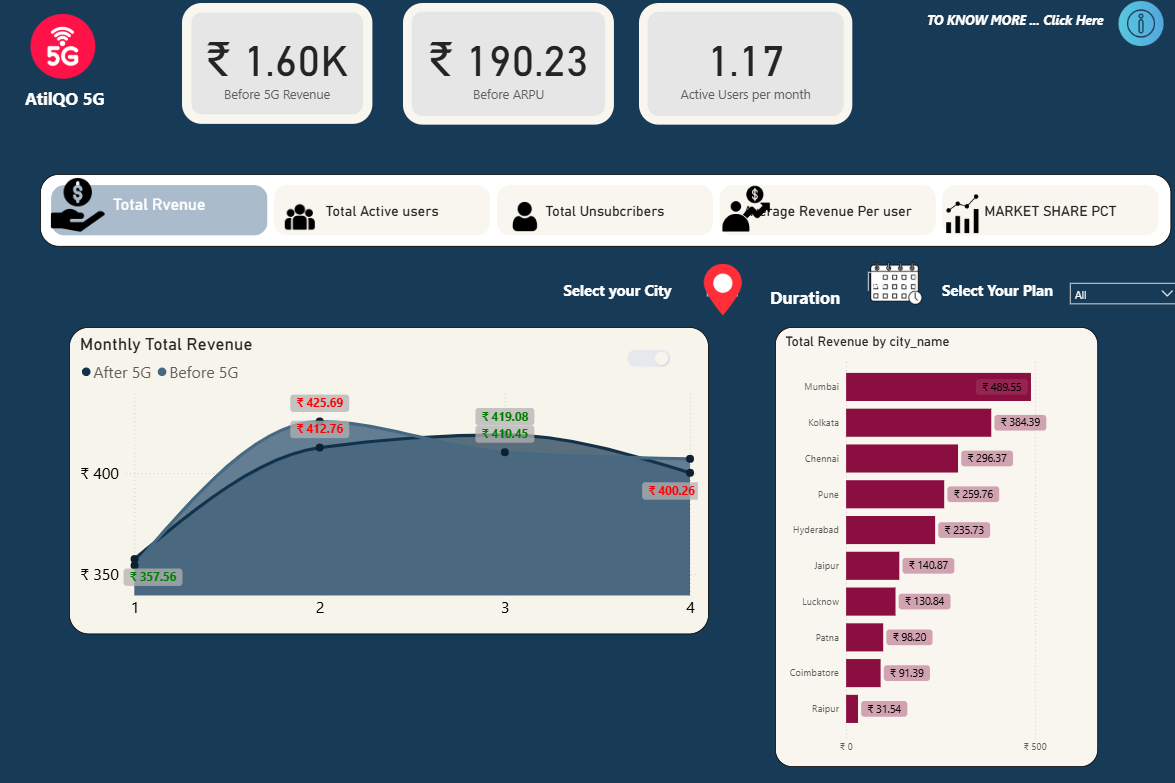

What the dashboard file says about the page in this screenshot:
{"tool":"powerbi","page":{"name":"HOME","canvas":[1500,1000],"ordinal":0},"visuals":[{"type":"barChart","fields":{"Category":["dim_cities.city_name"],"Series":["fact_plan_revenue.plans"],"Y":["Measures (2).Total Revenue"]},"box":[20.3,421.5,394.9,562],"z":0},{"type":"barChart","fields":{"Y":["Measures (2).Total Active users","Measures (2).Total Unsubcribers"]},"box":[1221.2,400.8,261.4,79.1],"z":1000},{"type":"pivotTable","fields":{"Rows":["fact_plan_revenue.plans"],"Columns":["dim_date.month_name"],"Values":["Sum(fact_plan_revenue.plan_revenue_crores)"]},"box":[958.1,690.6,530.9,294.8],"z":2000},{"type":"lineStackedColumnComboChart","title":"Total Revenue per Active User","fields":{"Category":["dim_date.month_name"],"Y2":["Measures (2).TOTAL ARPU"],"Y":["Measures (2).TOTAL ACTIVE USERS"]},"box":[967.7,421.7,521.4,259.3],"z":3000},{"type":"card","fields":{"Values":["Measures (2).Total Rvenue"]},"box":[230.4,7.6,240.5,153.2],"z":4000},{"type":"card","fields":{"Values":["Measures (2).Average Revenue Per user"]},"box":[510.2,8,267.1,153.6],"z":5000},{"type":"card","fields":{"Values":["Measures (2).Active Users oer month"]},"box":[809.4,8,269.8,153.6],"z":6000},{"type":"textbox","box":[27.1,108.3,133.8,38.2],"z":8000},{"type":"advancedSlicerVisual","fields":{"Values":["Parameter.Parameter"]},"box":[26.6,211.4,1463.3,92.4],"z":9000},{"type":"image","box":[20.3,219,125.3,78.5],"z":10000},{"type":"image","box":[873.5,211.6,94.2,69.6],"z":11000},{"type":"image","box":[612.7,240.2,62.1,47.4],"z":12000},{"type":"image","box":[321.9,240.2,78.4,49],"z":13000},{"type":"lineChart","title":"Monthly Total Revenue","fields":{"Category":["dim_date.month_name"],"Y":["Measures (2).Total Revenue"]},"box":[436.8,690.6,509.1,293.4],"z":14000},{"type":"clusteredColumnChart","title":"Total Revenue Per plan","fields":{"Category":["fact_plan_revenue.plans"],"Y":["Sum(fact_plan_revenue.plan_revenue_crores)"],"Series":["dim_date.before/after_5g"]},"box":[429.9,425.8,528.2,255.2],"z":15000},{"type":"textbox","box":[881.6,448.8,57.4,60.1],"z":16000},{"type":"image","box":[27.1,15.9,106.7,92.4],"z":18000},{"type":"slicer","fields":{"Values":["fact_plan_revenue.plans"]},"box":[1326.4,337.6,156.1,47.8],"z":19000},{"type":"textbox","box":[1144.9,337.6,156.1,47.8],"z":20000},{"type":"image","box":[1015.9,304.1,140.1,97.1],"z":21000},{"type":"textbox","box":[917.2,318.5,121,66.9],"z":22000},{"type":"slicer","fields":{"Values":["dim_date.before/after_5g"]},"box":[1038.2,337.6,81.2,35],"z":23000},{"type":"textbox","box":[1168.8,14.3,264.3,36.6],"z":24000},{"type":"image","box":[1390.1,0,109.9,66.9],"z":25000},{"type":"barChart","fields":{"Category":["dim_cities.city_name"],"Y":["Measures (2).Total Revenue"]},"box":[20.3,420.3,402.5,563.3],"z":26000},{"type":"textbox","box":[350.6,431.6,62,46.8],"z":27000},{"type":"image","box":[1156.9,222.2,120.9,71.9],"z":28000},{"type":"clusteredColumnChart","title":"Total Revenue Per plan","fields":{"Category":["fact_plan_revenue.plans"],"Y":["Sum(fact_plan_revenue.plan_revenue_crores)"]},"box":[429.1,425.3,529.1,255.7],"z":29000}]}

Visuals, with their boxes in screenshot pixels (x1, y1, x2, y2), scaled from the page's 1500x1000 canvas onto the 1175x783 screenshot:
barChart - dim_cities.city_name x fact_plan_revenue.plans: (16,330,325,770)
barChart - Measures (2).Total Active users x Measures (2).Total Unsubcribers: (957,314,1161,376)
pivotTable - fact_plan_revenue.plans x dim_date.month_name: (751,541,1166,772)
"Total Revenue per Active User" lineStackedColumnComboChart: (758,330,1166,533)
card - Measures (2).Total Rvenue: (180,6,369,126)
card - Measures (2).Average Revenue Per user: (400,6,609,127)
card - Measures (2).Active Users oer month: (634,6,845,127)
textbox: (21,85,126,115)
advancedSlicerVisual - Parameter.Parameter: (21,166,1167,238)
image: (16,171,114,233)
image: (684,166,758,220)
image: (480,188,529,225)
image: (252,188,314,226)
"Monthly Total Revenue" lineChart: (342,541,741,770)
"Total Revenue Per plan" clusteredColumnChart: (337,333,751,533)
textbox: (691,351,736,398)
image: (21,12,105,85)
slicer - fact_plan_revenue.plans: (1039,264,1161,302)
textbox: (897,264,1019,302)
image: (796,238,906,314)
textbox: (718,249,813,302)
slicer - dim_date.before/after_5g: (813,264,877,292)
textbox: (916,11,1123,40)
image: (1089,0,1174,52)
barChart - dim_cities.city_name x Measures (2).Total Revenue: (16,329,331,770)
textbox: (275,338,323,375)
image: (906,174,1001,230)
"Total Revenue Per plan" clusteredColumnChart: (336,333,751,533)
